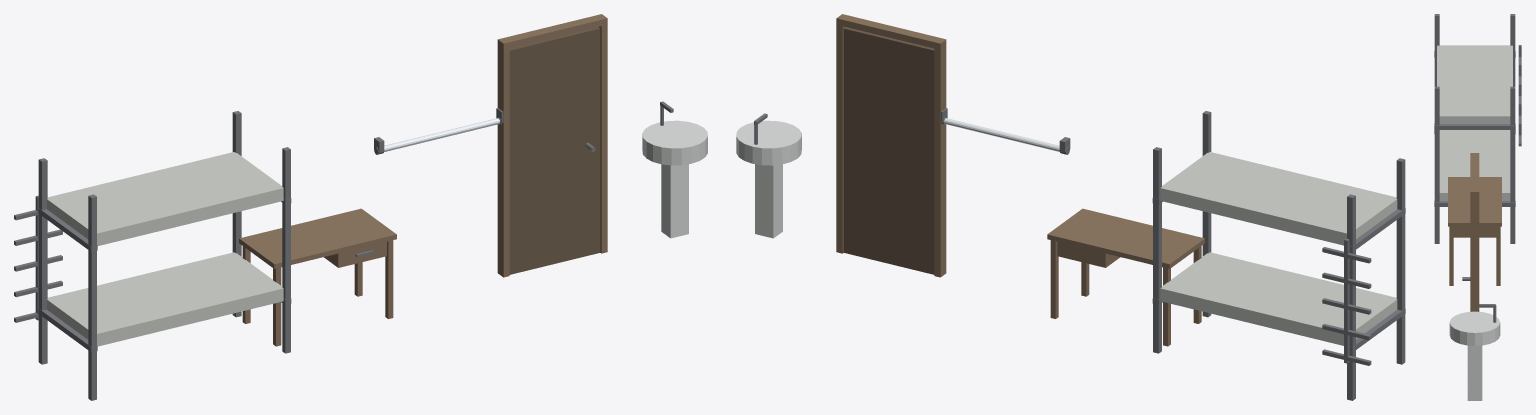
Rendered from SM_Hostel_Props.fbx.
3 views of the same model, side by side, from view 1: azimuth 30°, elevation 25°; view 2: azimuth 150°, elevation 25°; view 3: azimuth 270°, elevation 25° (orthographic). The views are drawn at different scales.
Parts seen in each view (by area): view 1: SM_Door_Panel, SM_Bunk_Mattress_1.42, SM_Bunk_Mattress_0.48, SM_Desk_Top, SM_Door_Frame_-0.48, SM_Basin_Bowl, SM_Basin_Pedestal, SM_Bunk_Post_-0.95_0.42, SM_Door_Frame_0.48, SM_Bunk_Post_-0.95_-0.42, SM_Bunk_Post_0.95_-0.42, SM_Door_Frame_Top (+4 smaller); view 2: SM_Door_Panel, SM_Bunk_Mattress_1.42, SM_Bunk_Mattress_0.48, SM_Desk_Top, SM_Door_Frame_-0.48, SM_Basin_Bowl, SM_Basin_Pedestal, SM_Bunk_Post_-0.95_-0.42, SM_Door_Frame_0.48, SM_Bunk_Post_0.95_0.42, SM_Bunk_Post_-0.95_0.42, SM_Door_Frame_Top (+5 smaller); view 3: SM_Bunk_Mattress_1.42, SM_Bunk_Mattress_0.48, SM_Desk_Top, SM_Basin_Bowl, SM_Door_Frame_0.48, SM_Bunk_Post_0.95_-0.42, SM_Bunk_Post_0.95_0.42, SM_Basin_Pedestal, SM_Bunk_Rail_R_1.42, SM_Door_Frame_Top, SM_Desk_Drawer, SM_Bunk_Post_-0.95_-0.42 (+5 smaller).
Part boxes in pixels (box(x1,y1,x2,y2)): SM_Door_Panel: box(509, 27, 600, 274); SM_Bunk_Mattress_1.42: box(47, 152, 283, 245); SM_Bunk_Mattress_0.48: box(47, 252, 283, 346); SM_Desk_Top: box(239, 208, 396, 268); SM_Door_Frame_-0.48: box(497, 43, 509, 277); SM_Basin_Bowl: box(642, 120, 707, 165); SM_Basin_Pedestal: box(661, 164, 688, 238); SM_Bunk_Post_-0.95_0.42: box(38, 158, 47, 364); SM_Door_Frame_0.48: box(599, 22, 607, 253); SM_Bunk_Post_-0.95_-0.42: box(88, 194, 96, 400); SM_Bunk_Post_0.95_-0.42: box(282, 147, 290, 353); SM_Door_Frame_Top: box(497, 14, 607, 49); SM_Door_Panel: box(843, 27, 934, 274); SM_Bunk_Mattress_1.42: box(1160, 152, 1397, 245); SM_Bunk_Mattress_0.48: box(1160, 252, 1397, 345); SM_Desk_Top: box(1047, 208, 1204, 268); SM_Door_Frame_-0.48: box(934, 43, 946, 277); SM_Basin_Bowl: box(736, 120, 801, 165); SM_Basin_Pedestal: box(755, 164, 782, 238); SM_Bunk_Post_-0.95_-0.42: box(1396, 158, 1405, 364); SM_Door_Frame_0.48: box(836, 21, 845, 253); SM_Bunk_Post_0.95_0.42: box(1153, 147, 1161, 353); SM_Bunk_Post_-0.95_0.42: box(1347, 194, 1355, 400); SM_Door_Frame_Top: box(836, 14, 946, 48); SM_Bunk_Mattress_1.42: box(1437, 45, 1512, 123); SM_Bunk_Mattress_0.48: box(1439, 130, 1510, 200); SM_Desk_Top: box(1448, 177, 1501, 226); SM_Basin_Bowl: box(1449, 311, 1500, 345); SM_Door_Frame_0.48: box(1470, 194, 1479, 311); SM_Bunk_Post_0.95_-0.42: box(1434, 86, 1439, 243); SM_Bunk_Post_0.95_0.42: box(1510, 86, 1515, 243); SM_Basin_Pedestal: box(1467, 345, 1482, 400); SM_Bunk_Rail_R_1.42: box(1434, 124, 1515, 129); SM_Door_Frame_Top: box(1470, 153, 1479, 196); SM_Desk_Drawer: box(1453, 226, 1496, 237); SM_Bunk_Post_-0.95_-0.42: box(1434, 14, 1439, 86).
Bounding box in the file's own units: 6.46 × 2.19 × 0.9675.
